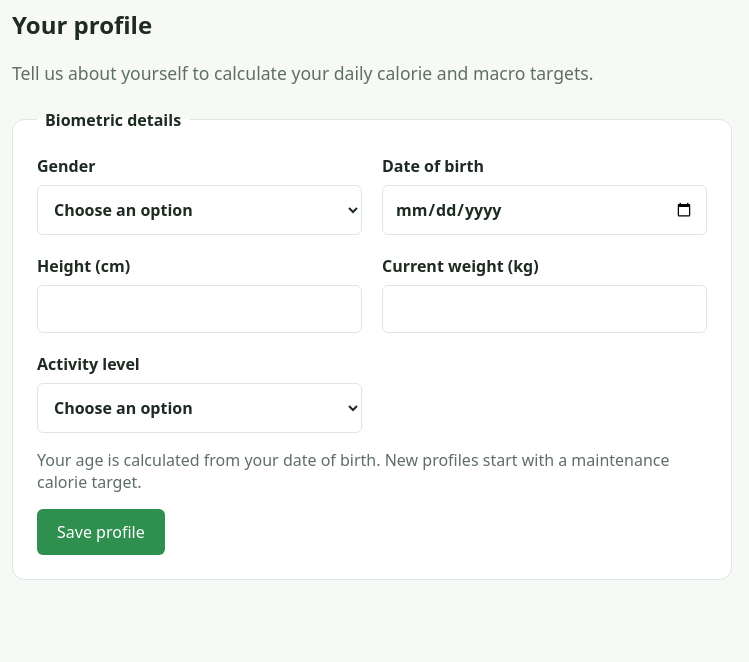
it: shows server field errors and retains input for correction
The image size is (749, 662).
Select "Male" in the dropdown labelled "Gender": x=200, y=210 [37,185,362,235]
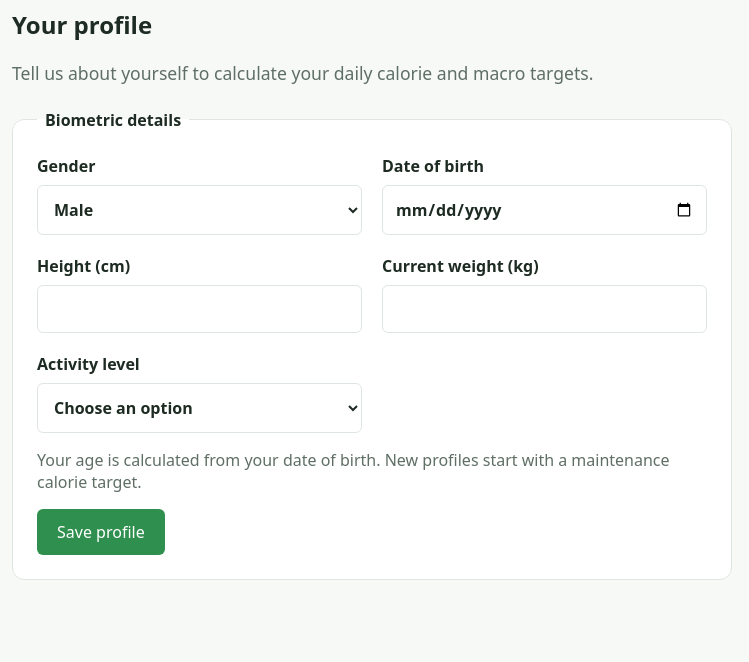
In the date field labelled "Date of birth": x=544, y=210 [382,185,707,235], type "2000-01-01"
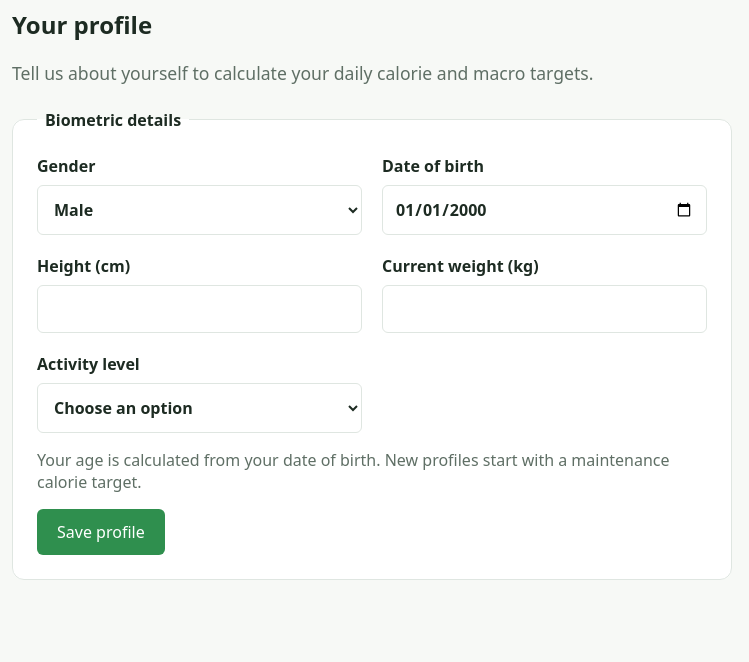
In the number field labelled "Height (cm)": x=200, y=309 [37,285,362,333], type "180"
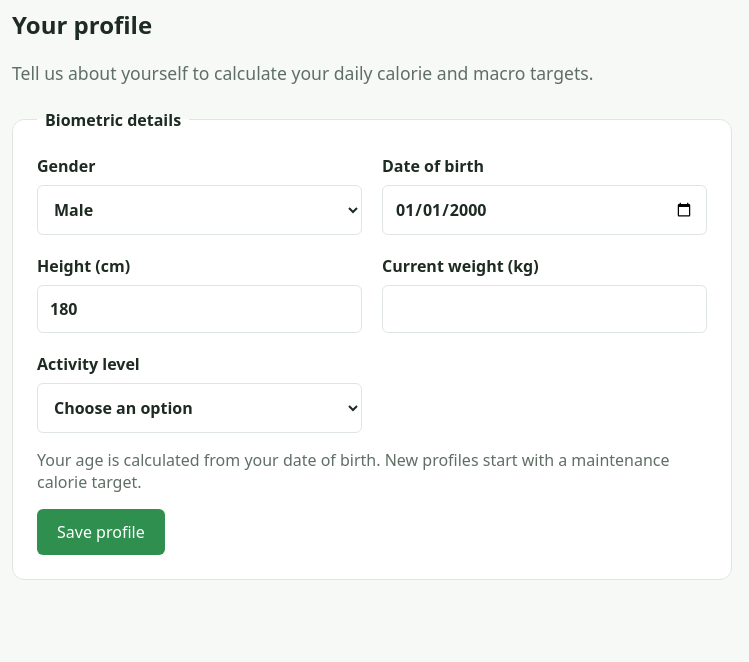
In the number field labelled "Current weight (kg)": x=544, y=309 [382,285,707,333], type "72.5"
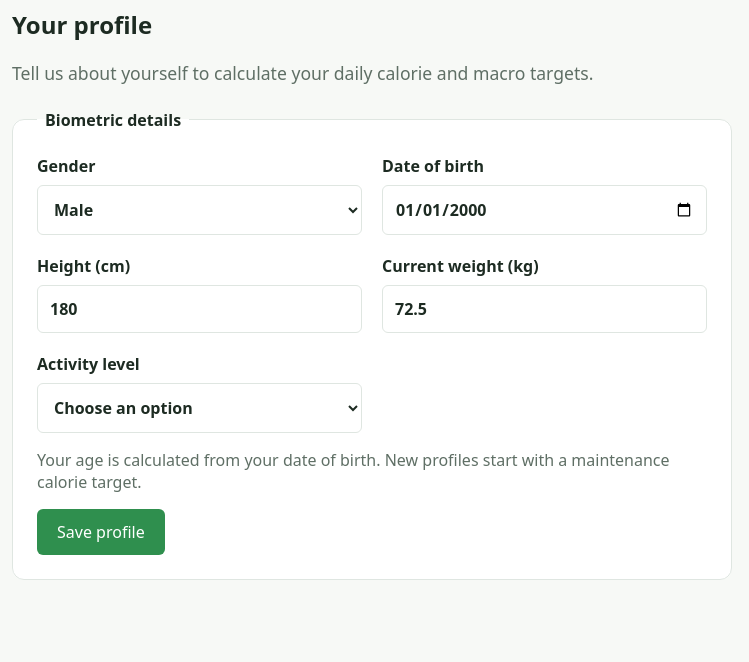
Select "Moderately active" in the dropdown labelled "Activity level": x=200, y=408 [37,383,362,433]
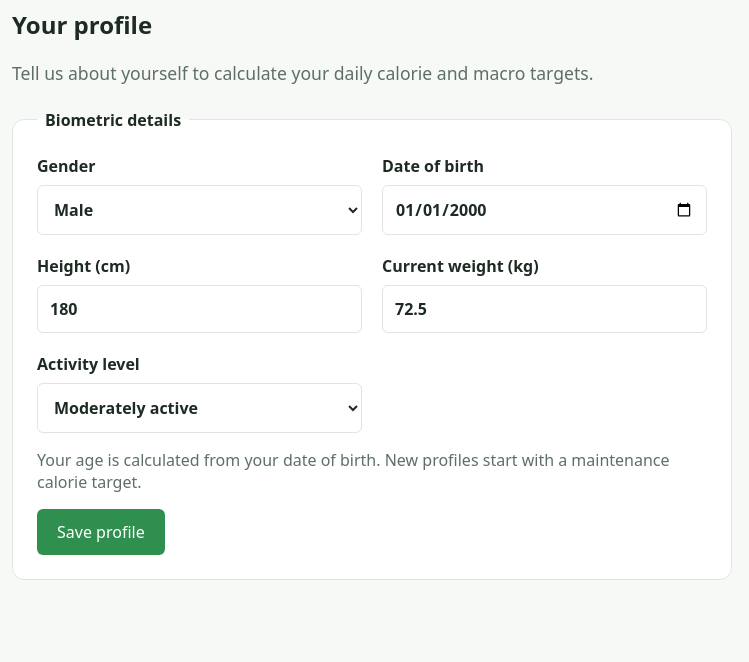
Click the button "Save profile": x=101, y=532 [37,509,165,555]
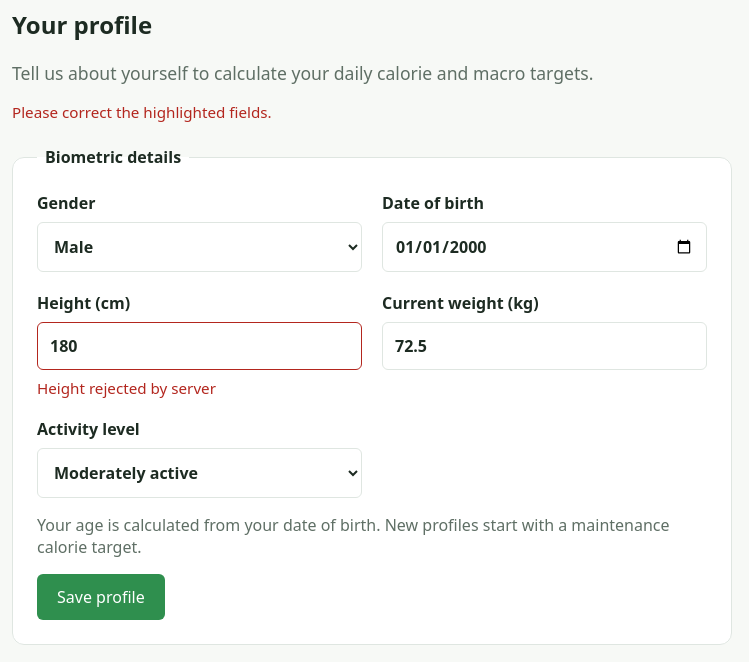
Result: the text "Height rejected by server" is shown at [37,378,216,398]
